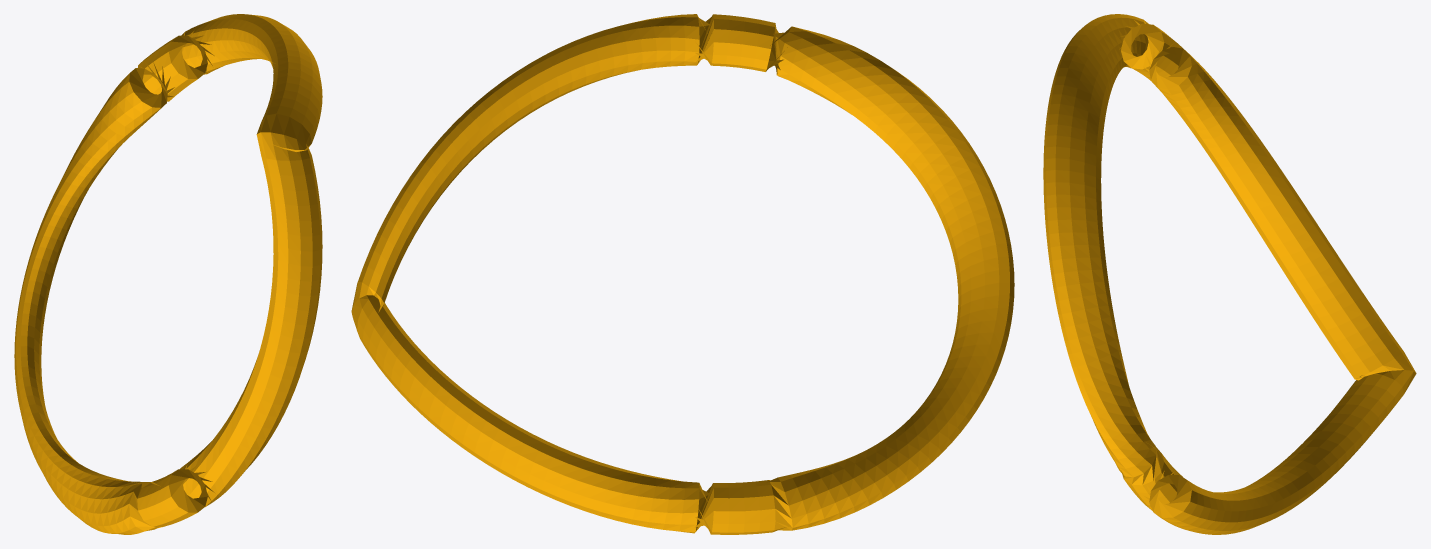
The model's file is 3_viviani_loop.glb.
3 views of the same model, side by side, from view 1: azimuth 30°, elevation 25°; view 2: azimuth 150°, elevation 25°; view 3: azimuth 270°, elevation 25° (orthographic). The views are drawn at different scales.
Size of the model in its own units: 3.22 by 3.3 by 2.37.
